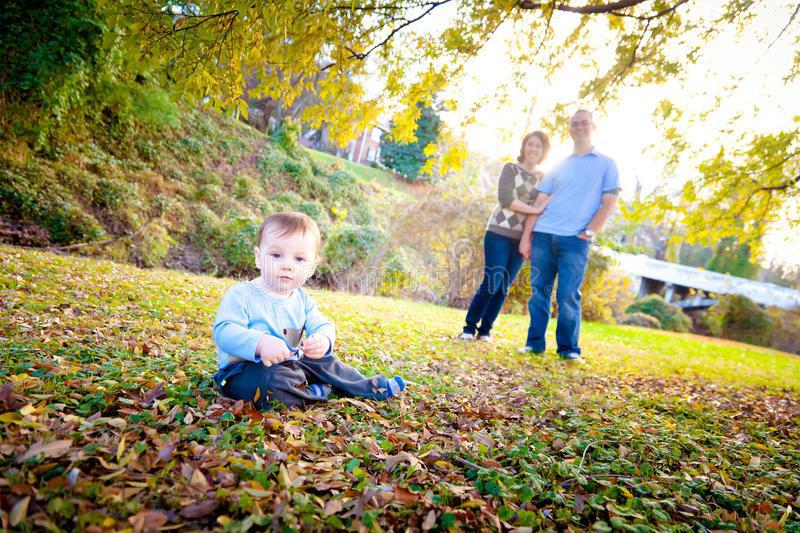child: (211, 207, 415, 415)
